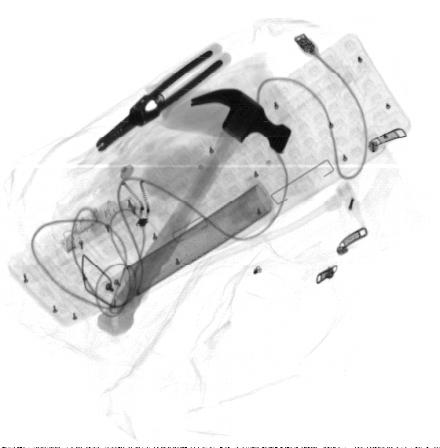Hammer: (96, 87, 291, 338)
Pliers: (95, 41, 233, 153)
